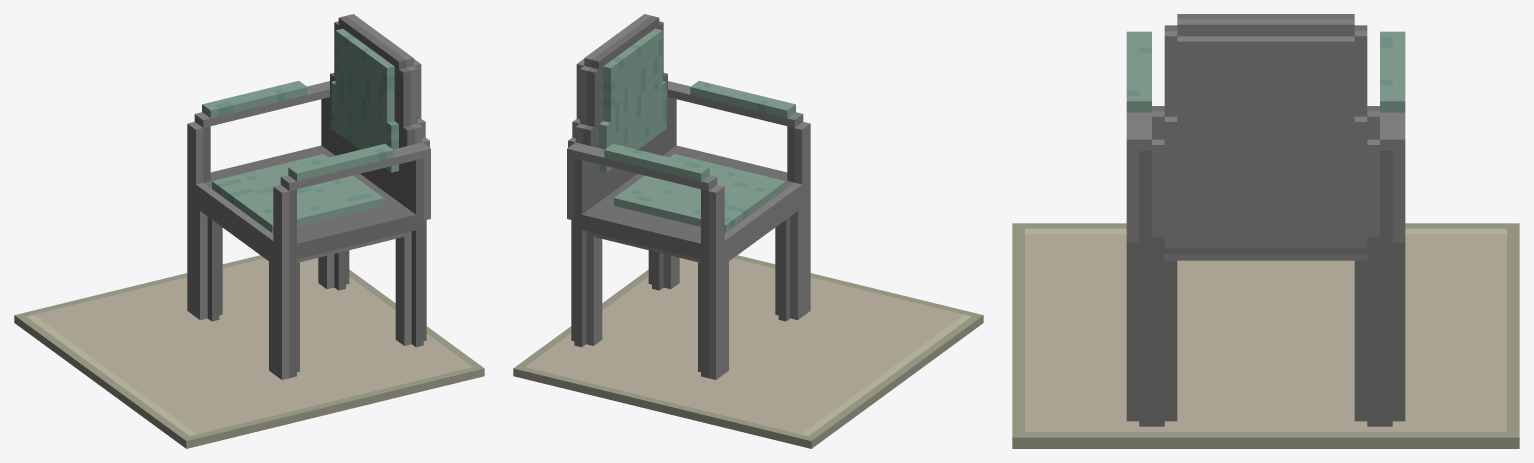
Rendered from Cadeira_2.obj.
3 renders of one model, left to right at view 1: azimuth 30°, elevation 25°; view 2: azimuth 150°, elevation 25°; view 3: azimuth 270°, elevation 25°, orthographic. The views are drawn at different scales.
Bounding box in the file's own units: 40 × 36 × 40.
1 material, 1 textured.
